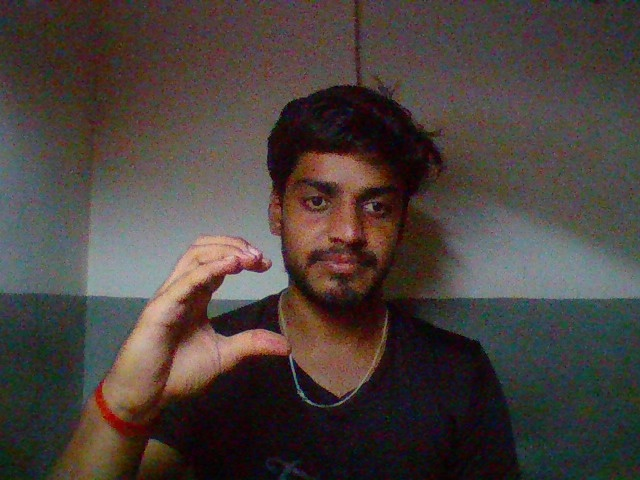C: (100, 221, 327, 401)
